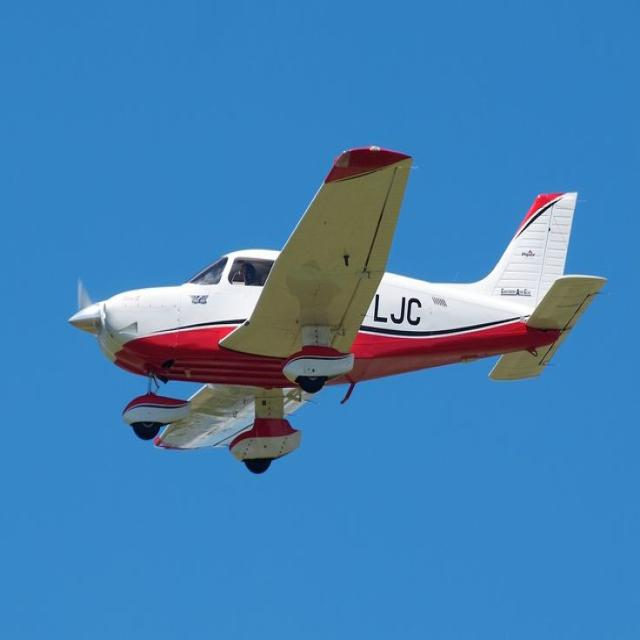iha: (66, 147, 610, 473)
